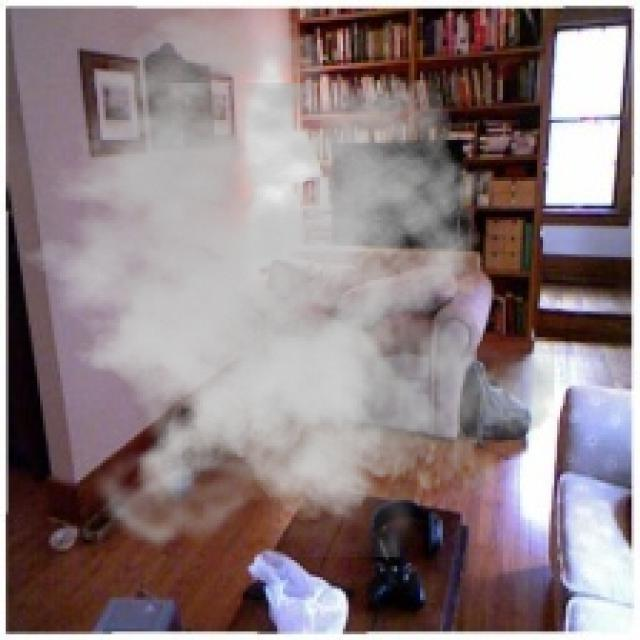Smoke: (0, 5, 555, 558)
